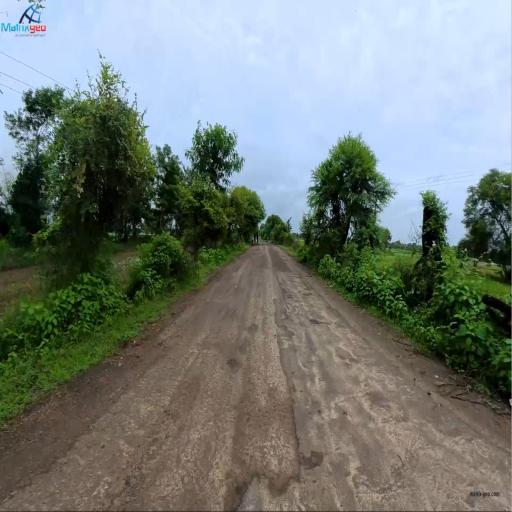ravelling: (251, 344, 373, 501), (171, 373, 234, 469)
